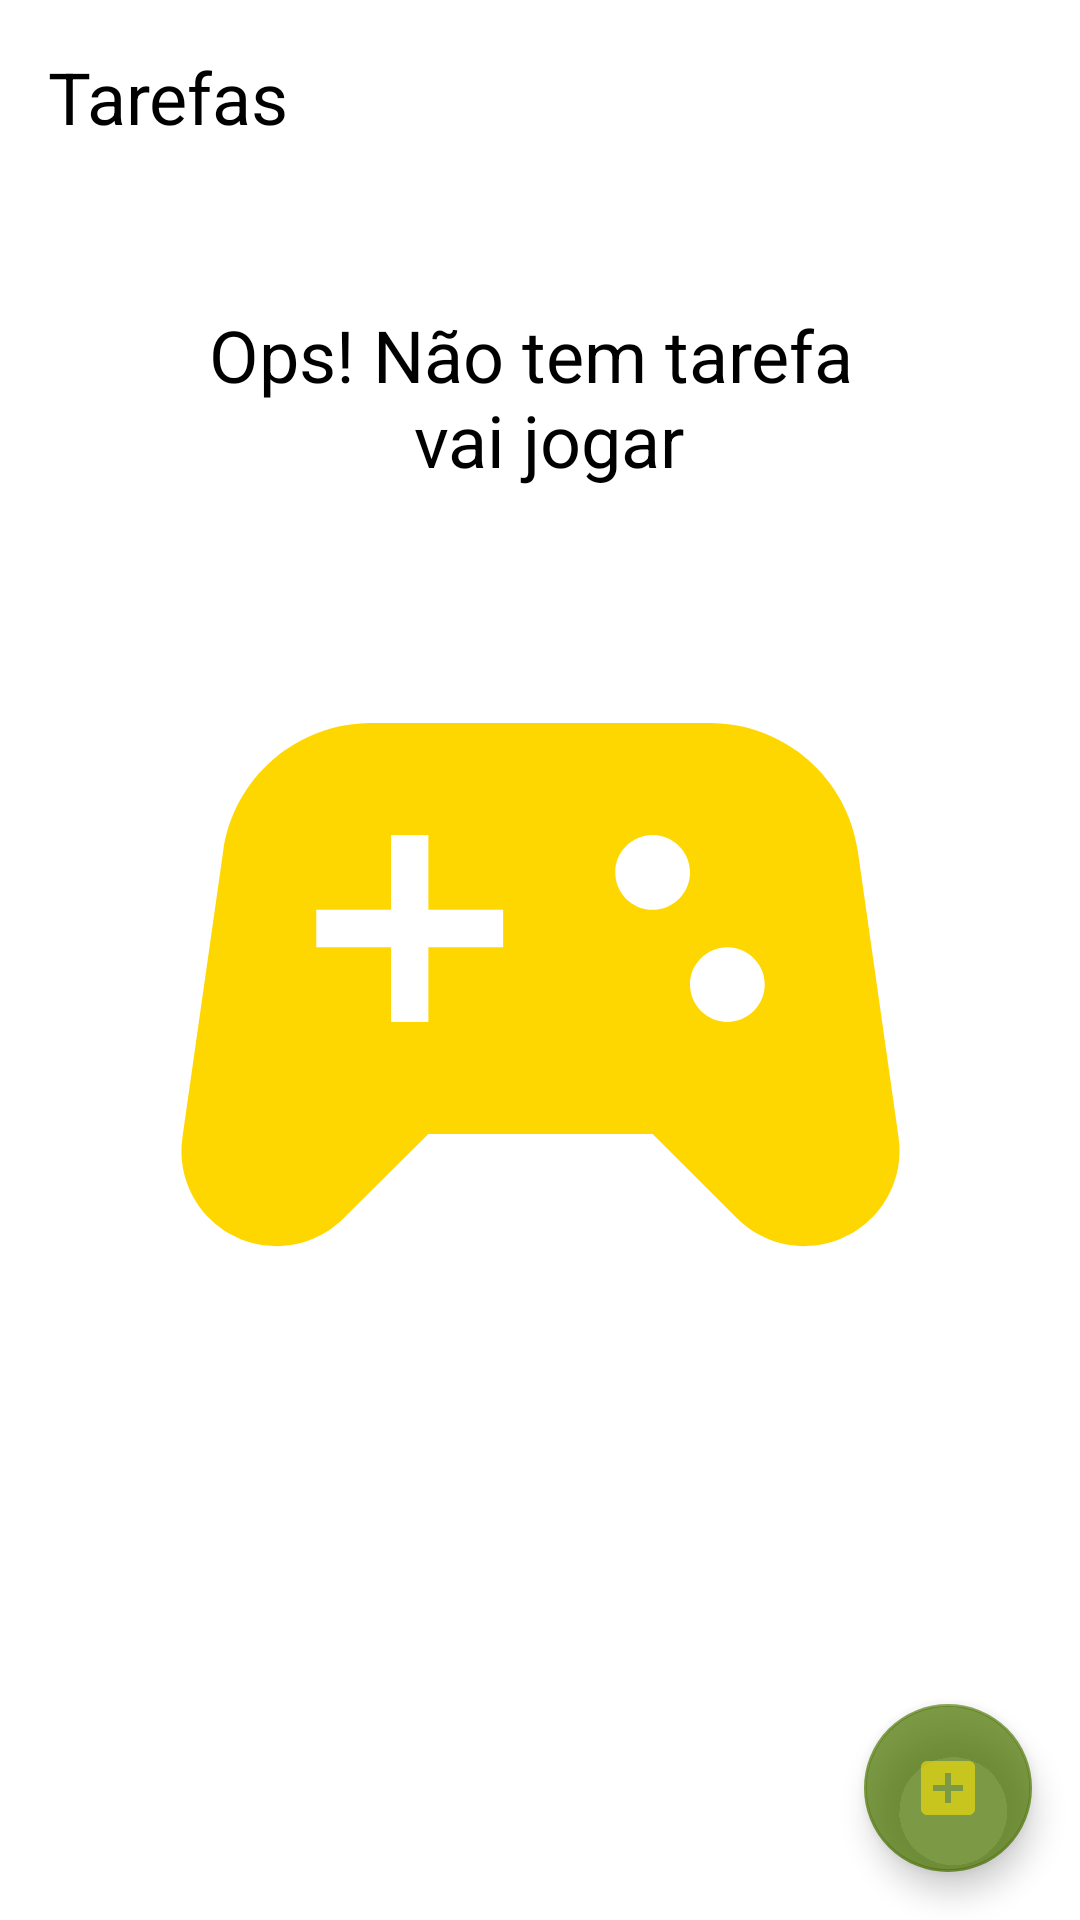

Where to tap for icons on this 1080w x 1920h app screen, as [x,y]:
Nova tarefa: [948,1788]
